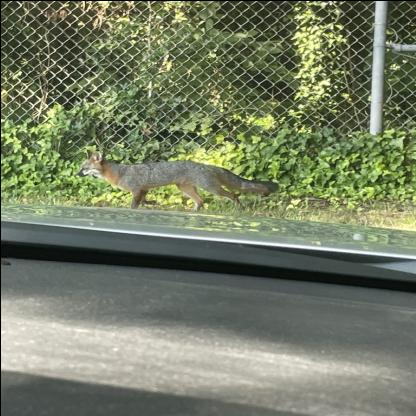zorro: (73, 143, 288, 214)
